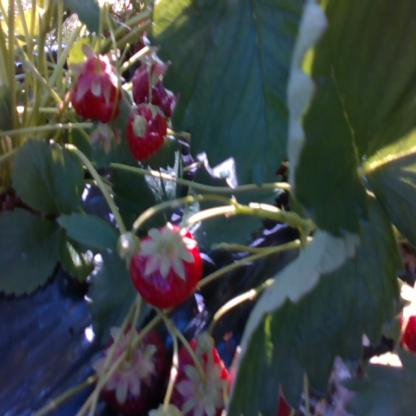ripe: (130, 227, 204, 313), (96, 332, 169, 402), (170, 342, 232, 414), (72, 64, 122, 120), (134, 57, 176, 115), (126, 109, 171, 156)
